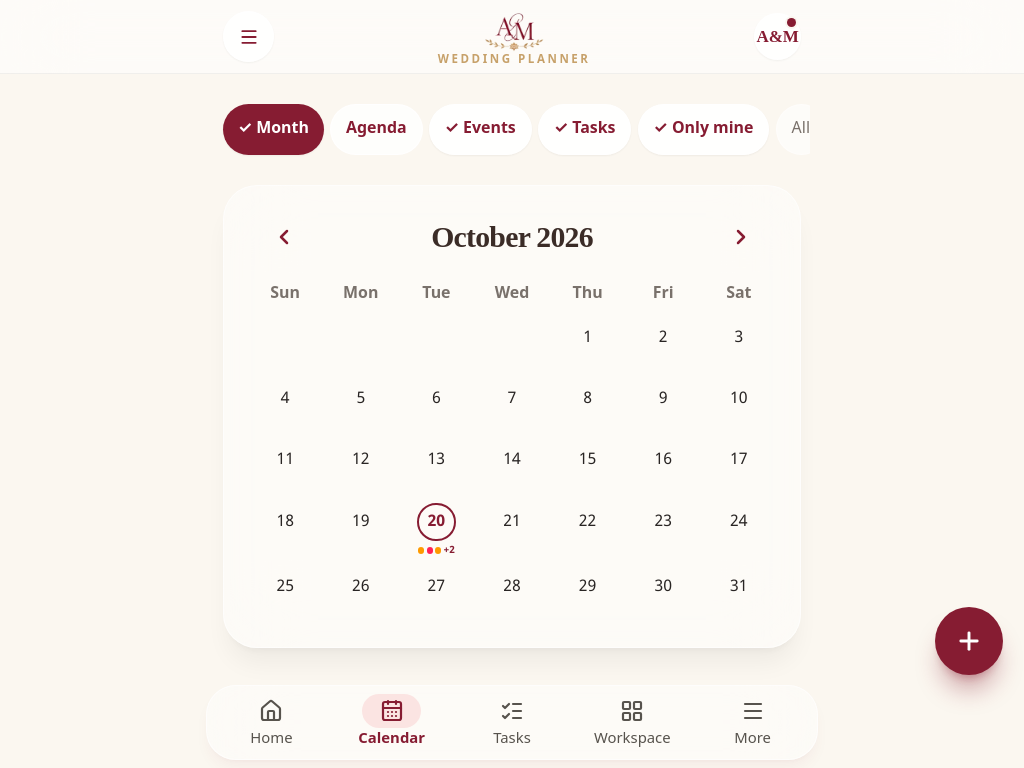
Test case: Month view › AC-EVT-04 / E2: 5 items → 3 dots and "+2"; tapping the day lists it
Expected: the text "+2" is shown, [444, 546, 455, 556]
Click the button named "20, 5 items" at (436, 529), box [401, 499, 472, 560]
(page scrolled)
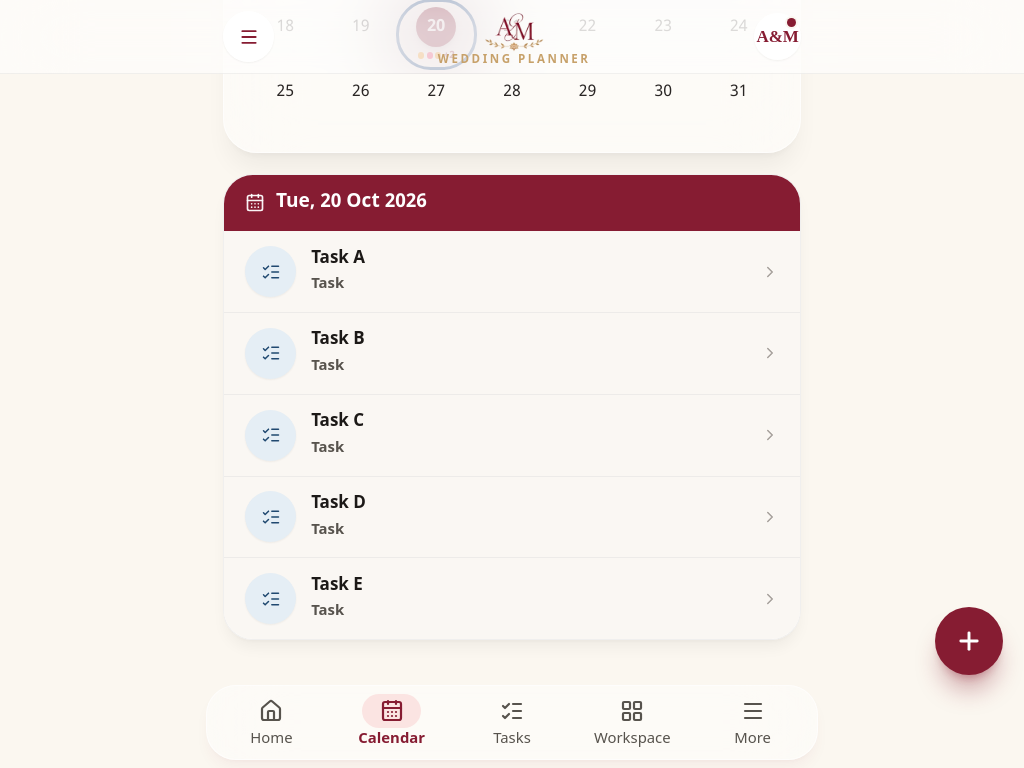
Result: the text "Task E" is shown at [311, 575, 363, 597]
